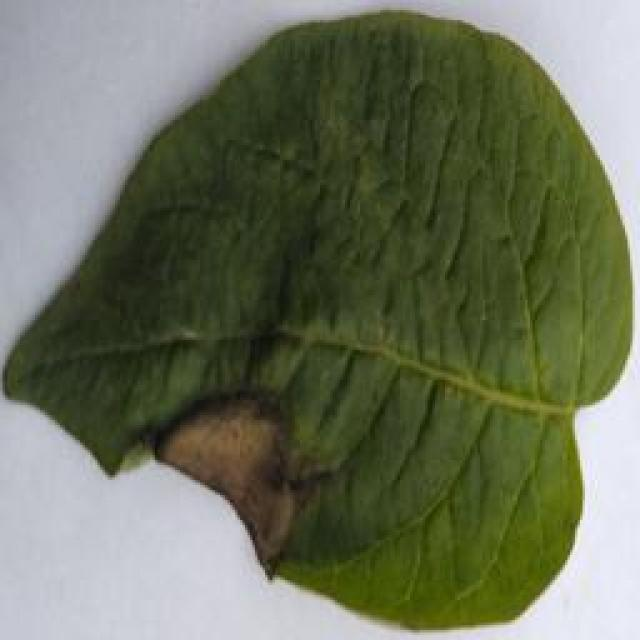Potato_Late_Blight: (6, 12, 622, 630)
